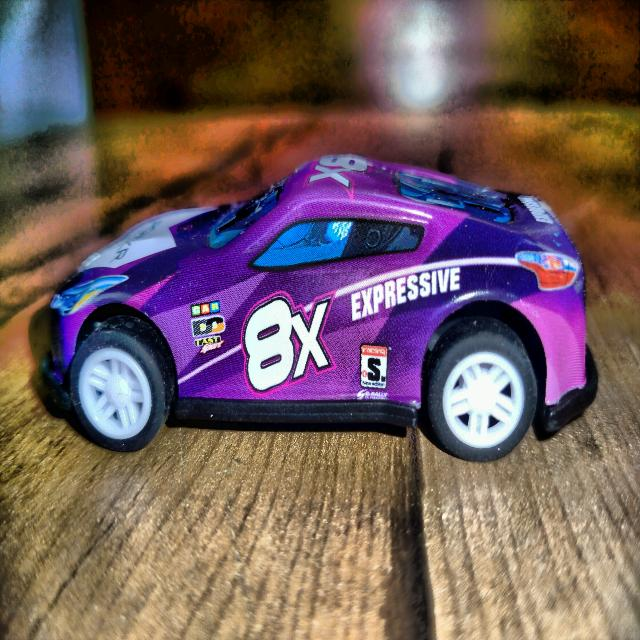Car: (36, 143, 600, 498)
